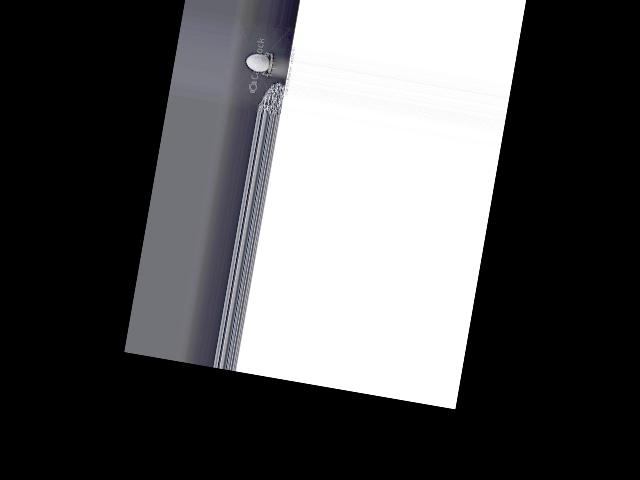egg: (245, 52, 271, 73)
